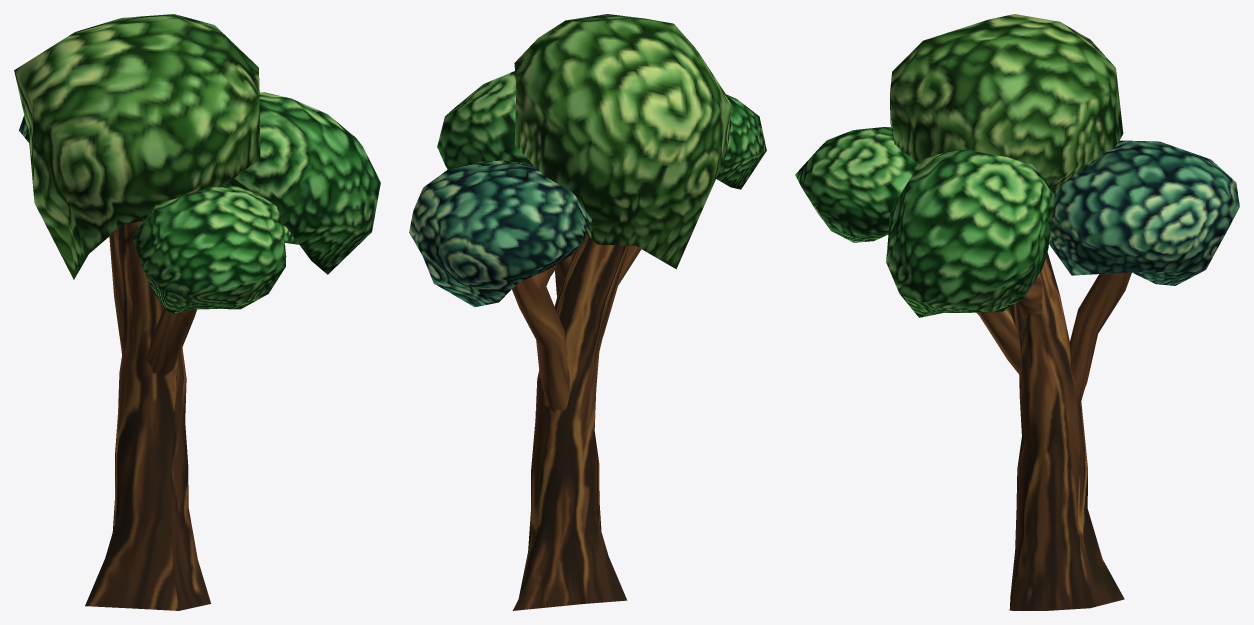
The model's file is Ntree_5_2.fbx.
3 views of the same model, side by side, from view 1: azimuth 30°, elevation 25°; view 2: azimuth 150°, elevation 25°; view 3: azimuth 270°, elevation 25° (orthographic). The views are drawn at different scales.
Parts seen in each view (by area): view 1: Ntree_5_2; view 2: Ntree_5_2; view 3: Ntree_5_2.
Boxes of the visible parts, x1,y1,x2,y2 form: Ntree_5_2: (14,14,380,610); Ntree_5_2: (409,14,766,610); Ntree_5_2: (795,14,1239,610).
Size of the model in its own units: 146 by 266 by 194.
